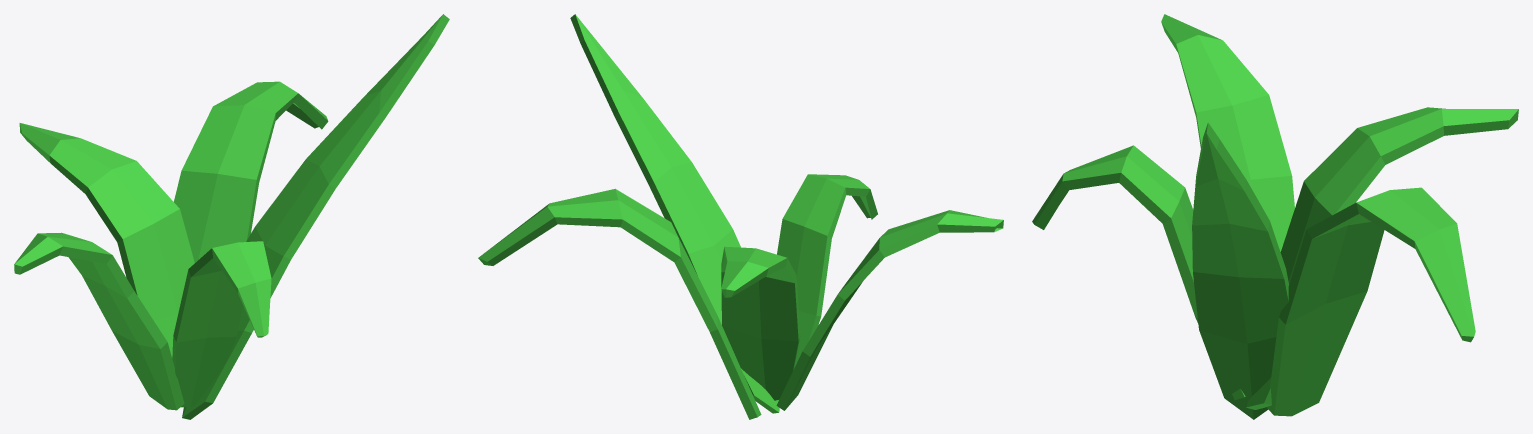
File: GrassPoll1.fbx
3 views of the same model, side by side, from view 1: azimuth 30°, elevation 25°; view 2: azimuth 150°, elevation 25°; view 3: azimuth 270°, elevation 25° (orthographic). The views are drawn at different scales.
Parts seen in each view (by area): view 1: GrassPoll; view 2: GrassPoll; view 3: GrassPoll.
Part boxes in pixels (<box>): GrassPoll: <box>14,14,449,419</box>; GrassPoll: <box>478,14,1003,419</box>; GrassPoll: <box>1032,14,1518,419</box>.
Size of the model in its own units: 286 by 219 by 223.
